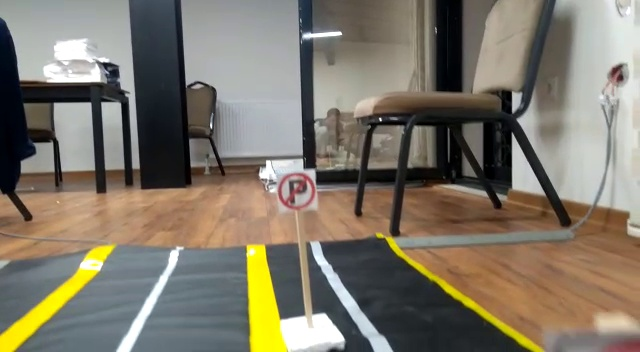park_yapilmaz: (275, 172, 318, 210)
